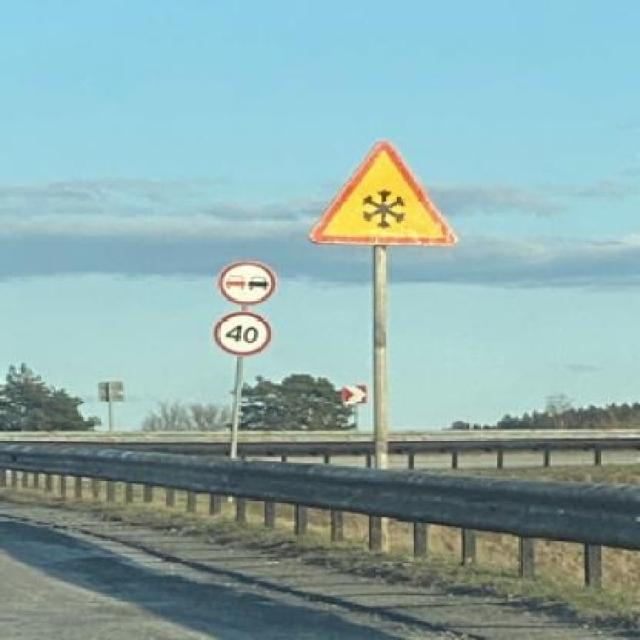forb_speed_over_40: (217, 312, 275, 358)
